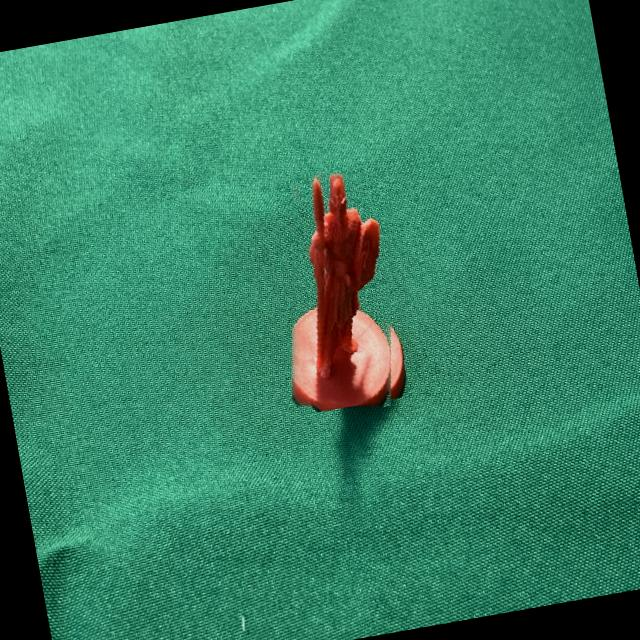amon_follower: (291, 173, 390, 406)
